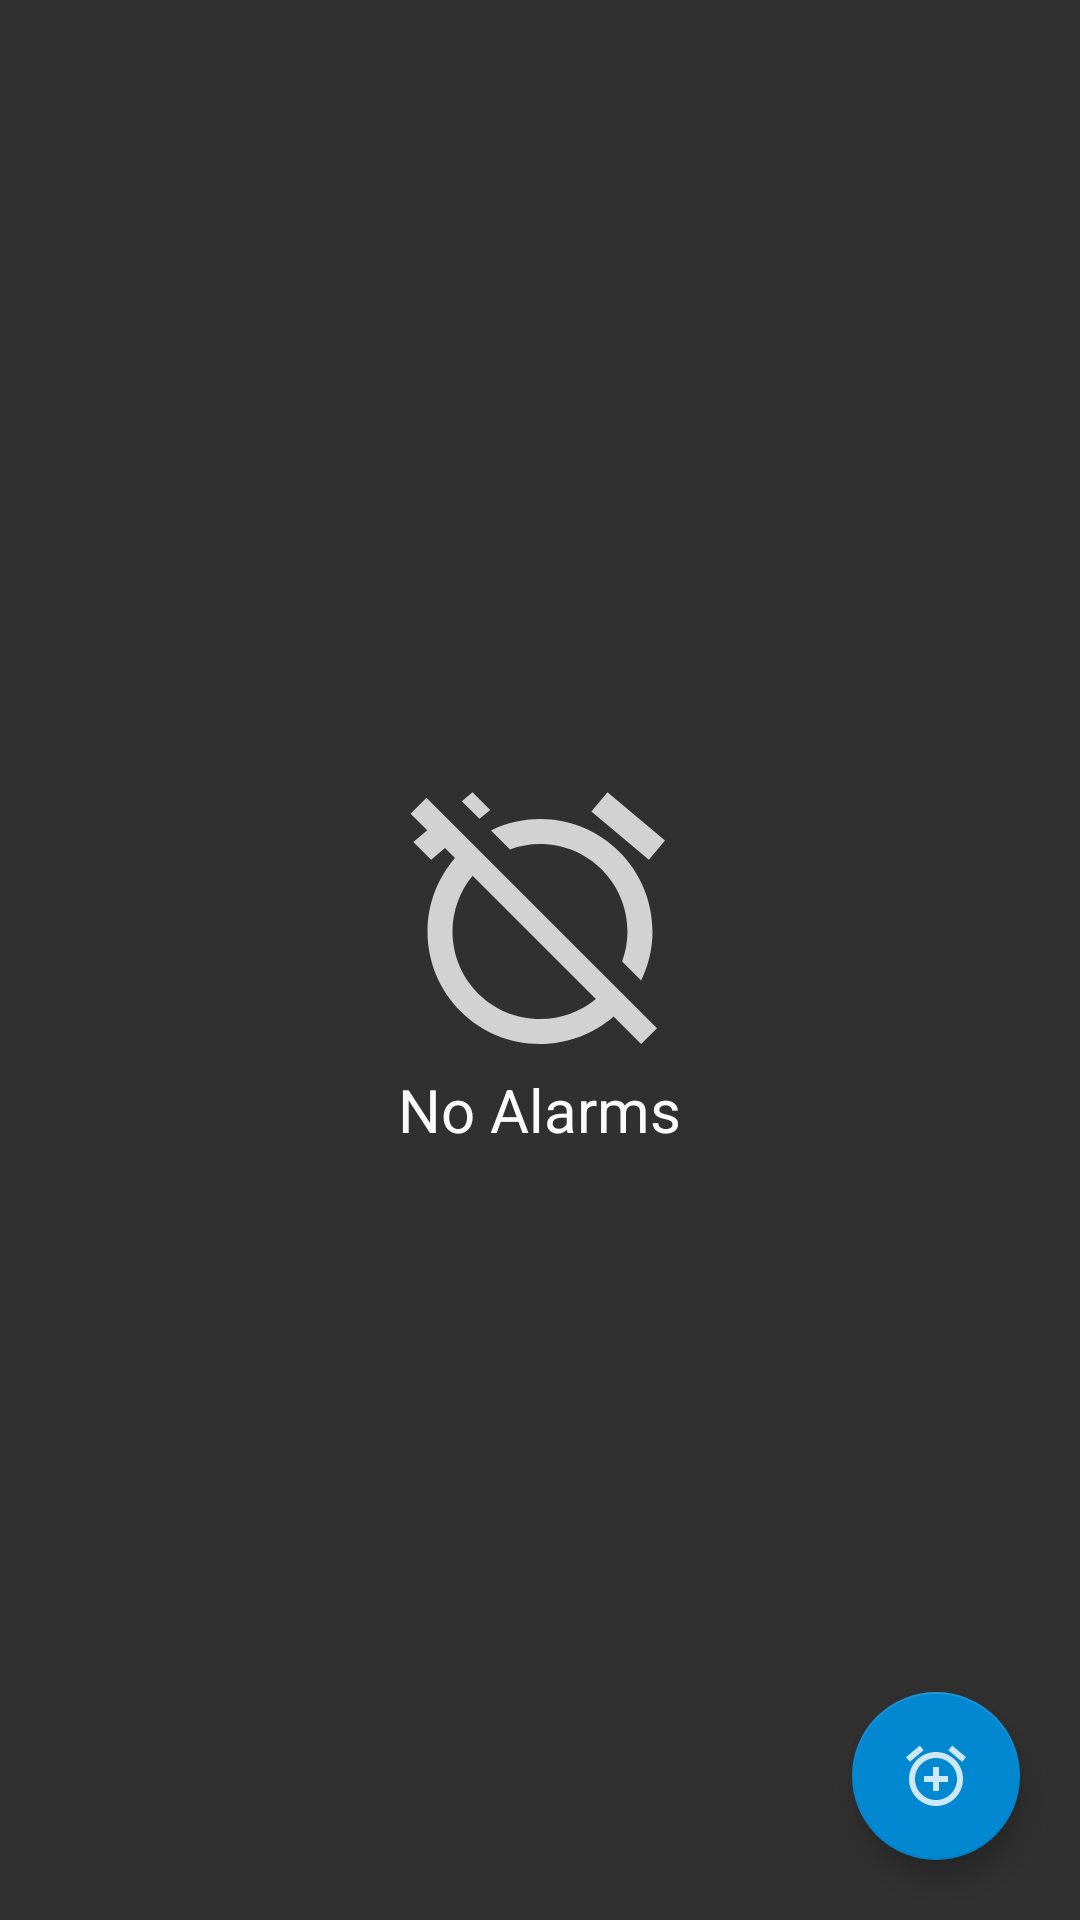

Named icons in this screenshot (1080*1920) and their bounding boxes, (x1, y1, x2, y2):
add alarm: (852, 1692, 1020, 1860)
